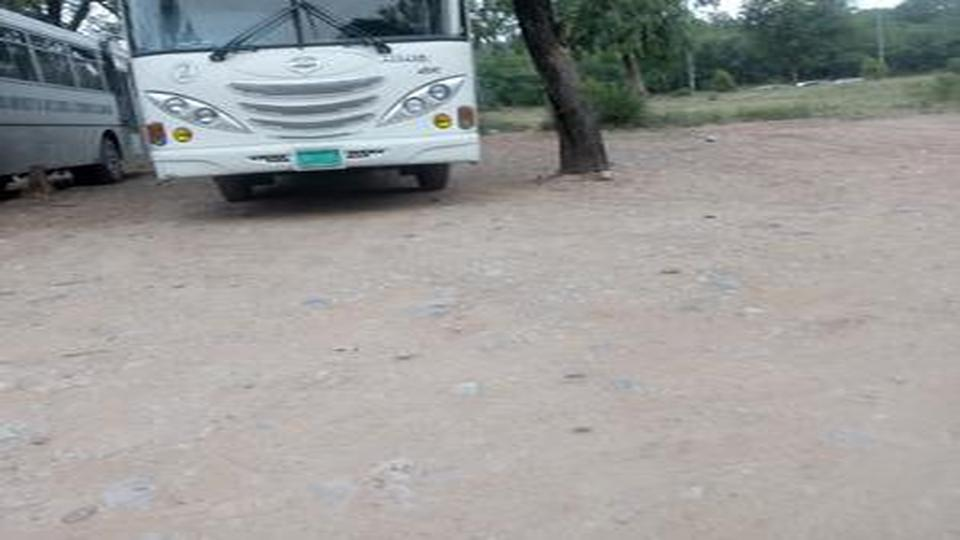NumberPlate: (293, 149, 343, 168)
